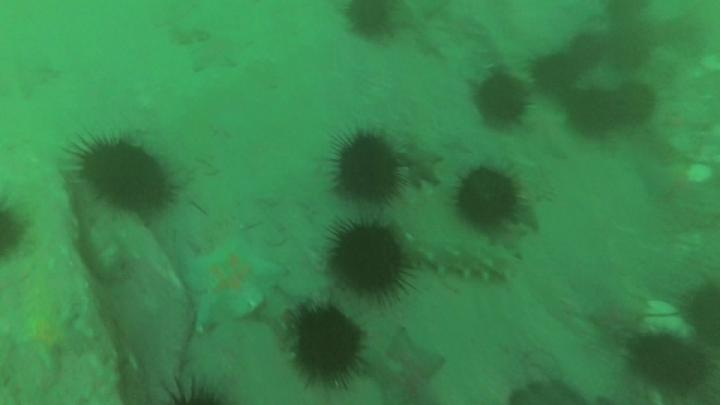echinus: (80, 141, 173, 217), (291, 306, 367, 377), (331, 222, 404, 291), (629, 333, 707, 393), (337, 135, 401, 201), (470, 71, 533, 129), (456, 170, 518, 225), (571, 87, 615, 136), (529, 50, 584, 88), (615, 79, 654, 129), (345, 1, 395, 36), (571, 35, 608, 67)
holothurian: (397, 232, 523, 282)
starfish: (181, 238, 285, 332), (365, 326, 447, 405), (191, 31, 254, 71), (401, 141, 444, 185), (589, 297, 640, 334)
